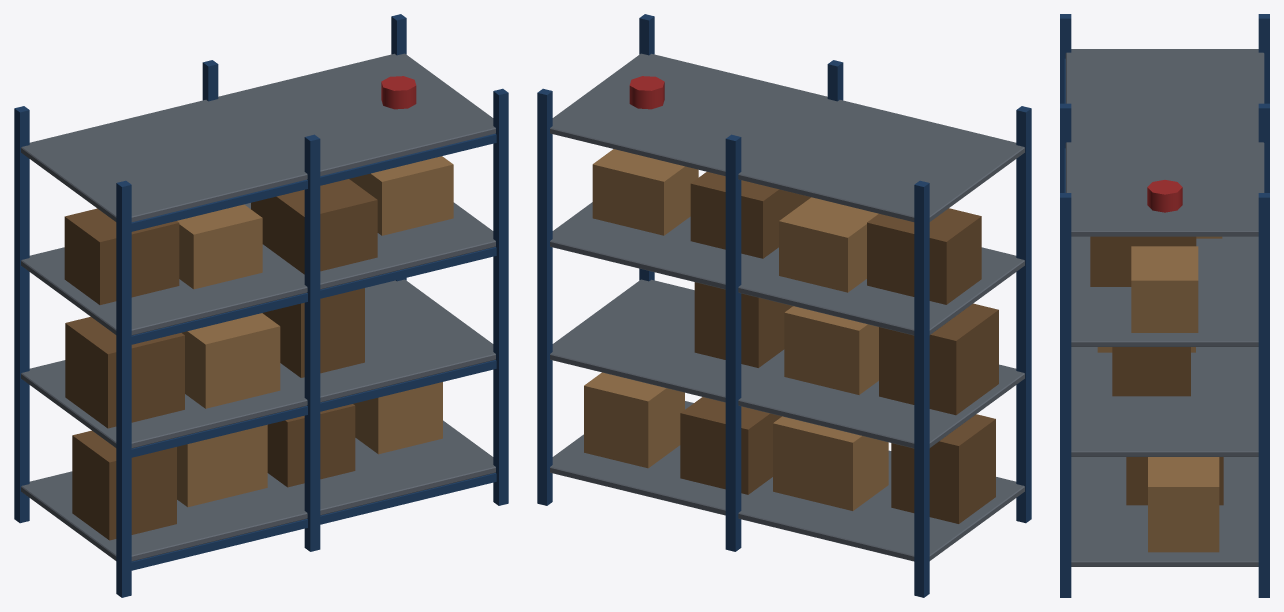
File: shelving_industrial.glb
The picture shows the model from 3 angles, left to right: view 1: azimuth 30°, elevation 25°; view 2: azimuth 150°, elevation 25°; view 3: azimuth 270°, elevation 25°; orthographic projection. The views are drawn at different scales.
Visible parts, largest first — view 1: shelving_industrial; view 2: shelving_industrial; view 3: shelving_industrial.
Boxes of the visible parts, box(x1,y1,x2,y2) form: shelving_industrial: box(14, 14, 508, 597); shelving_industrial: box(537, 14, 1031, 597); shelving_industrial: box(1060, 14, 1269, 597).
Size of the model in its own units: 1.97 by 2 by 0.95.
